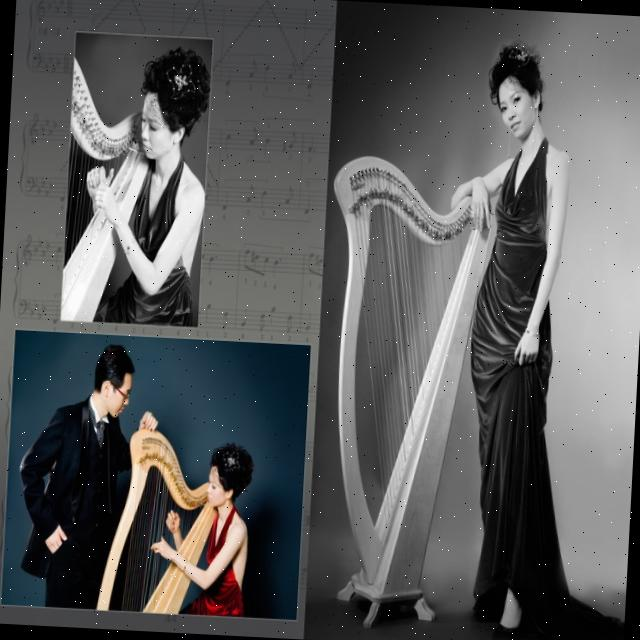harp: (311, 150, 504, 616), (59, 56, 160, 322), (93, 427, 226, 616)
